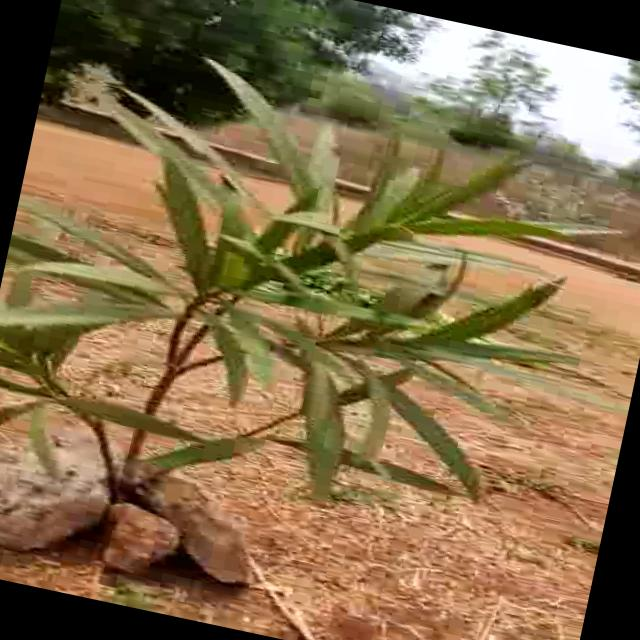Oleander: (3, 49, 556, 548)
